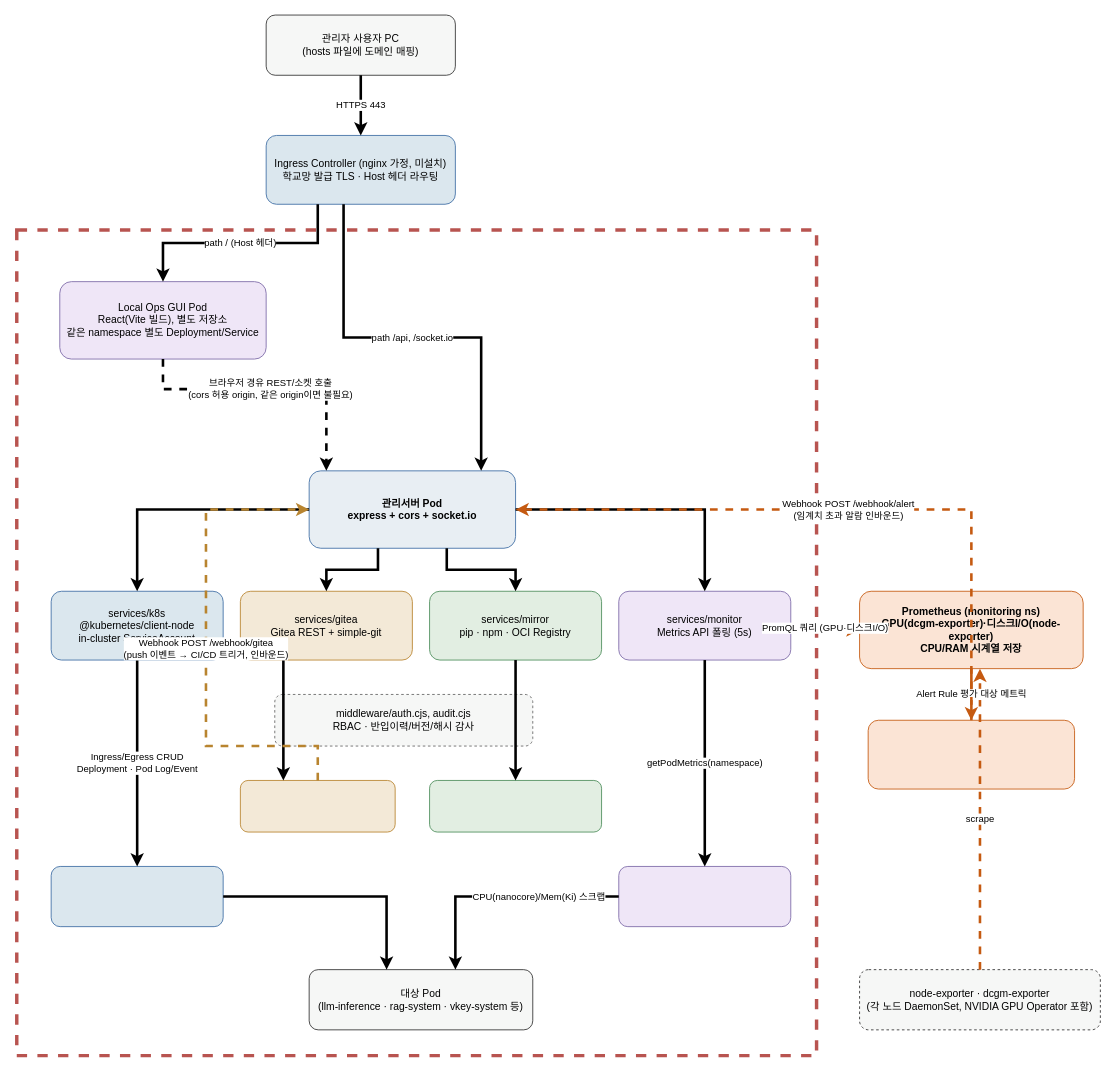
Some shapes in this 1115 by 1072 pixel diagram are drawn without their labels. Here are the shapes that lost their labels. From the top down, the box of each, then its label:
(15, 228, 818, 1057): Namespace: infra (wk-01)
(867, 719, 1075, 789): Alertmanager 임계치 Alert Rule 평가
(240, 780, 395, 832): Gitea Daemon (로컬 Git)
(429, 780, 602, 832): Package Mirror Registry (Gitea Registry / OCI)
(50, 866, 223, 927): kube-apiserver :6443 (cp-01, Control Plane)
(618, 866, 791, 927): metrics-server metrics.k8s.io (Aggregated API)
